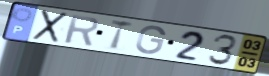2: (170, 29, 208, 64)
3: (207, 33, 238, 67)
G: (134, 25, 169, 56)
R: (63, 13, 100, 48)
T: (108, 18, 136, 52)
X: (30, 8, 70, 44)
